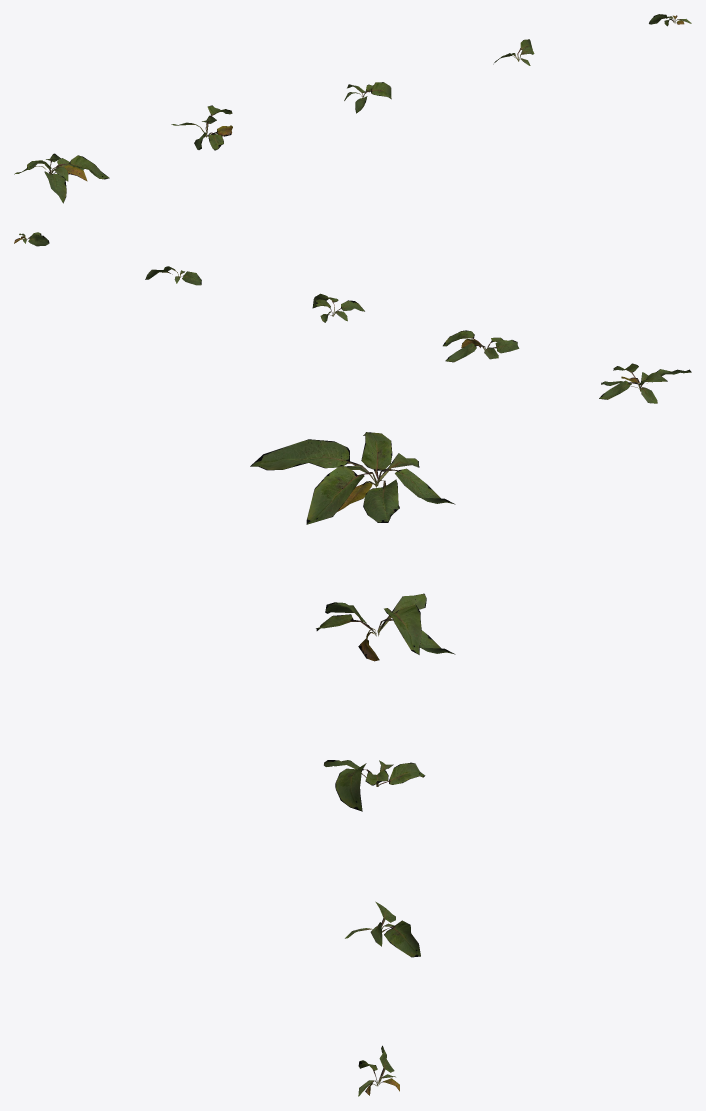
File: weed_plant_02.glb
The picture shows the model from 3 angles, top to bottom: view 1: azimuth 30°, elevation 25°; view 2: azimuth 150°, elevation 25°; view 3: azimuth 270°, elevation 25°; orthographic projection. The views are drawn at different scales.
Parts seen in each view (by area): view 1: weed_plant_02_a_LOD0, weed_plant_02_c_LOD0; view 2: weed_plant_02_a_LOD0, weed_plant_02_c_LOD0; view 3: weed_plant_02_a_LOD0, weed_plant_02_c_LOD0.
Part boxes in pixels (bbox=[...]): weed_plant_02_a_LOD0: bbox=[14, 14, 691, 203]; weed_plant_02_c_LOD0: bbox=[344, 82, 391, 113]; weed_plant_02_a_LOD0: bbox=[14, 232, 691, 403]; weed_plant_02_c_LOD0: bbox=[312, 293, 364, 322]; weed_plant_02_a_LOD0: bbox=[250, 432, 455, 1096]; weed_plant_02_c_LOD0: bbox=[324, 760, 425, 811].
Bounding box in the file's own units: 2.13 × 0.0745 × 0.2908.
Materials: 1 (1 with a texture image).
